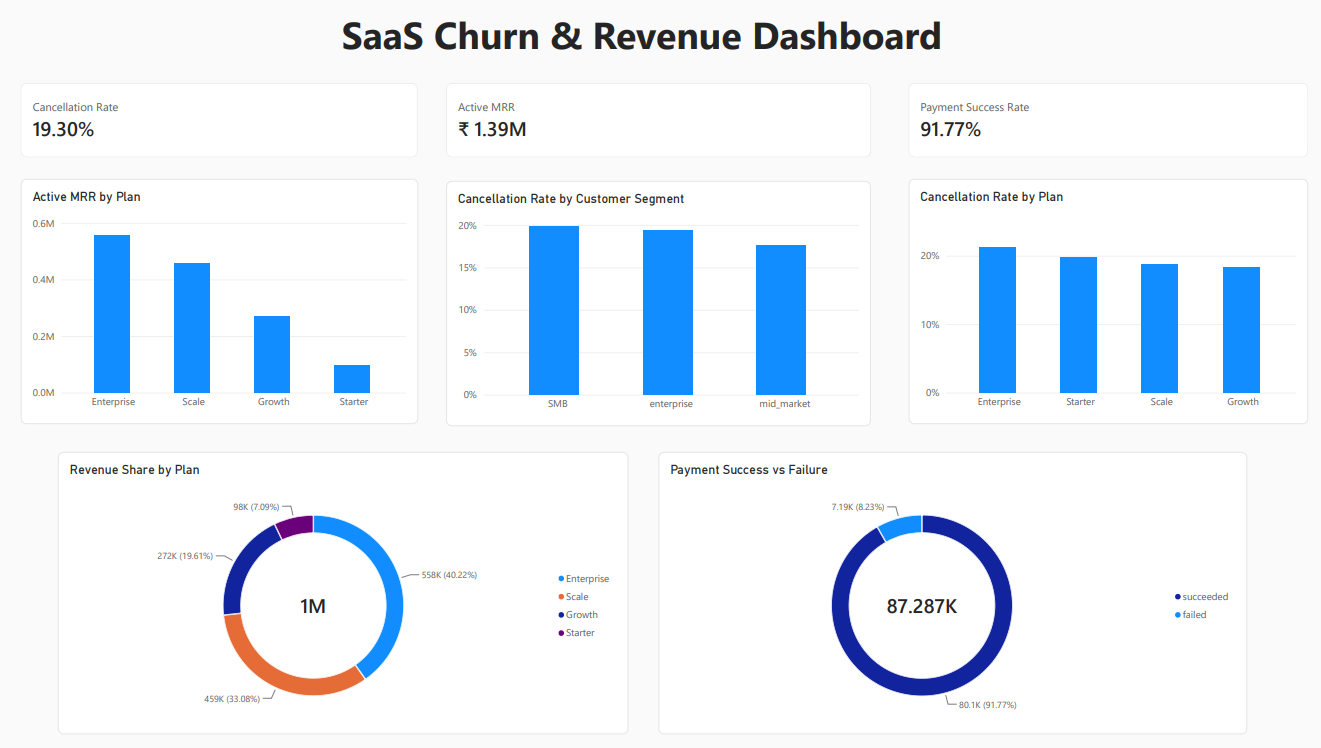

The page's visual inventory and layout, read from the dashboard file:
{"tool":"powerbi","page":{"name":"Page 1","canvas":[1920,1080],"ordinal":0},"visuals":[{"type":"cardVisual","fields":{"Data":["subscriptions.Cancellation Rate"]},"box":[50,123.3,566.7,106.7],"z":0},{"type":"cardVisual","fields":{"Data":["subscriptions.Active MRR"]},"box":[656.7,123.3,606.7,106.7],"z":1},{"type":"cardVisual","fields":{"Data":["payments.Payment Success Rate"]},"box":[1316.7,123.3,570,106.7],"z":2},{"type":"clusteredColumnChart","title":"Cancellation Rate by Plan","fields":{"Category":["plans.plan_name"],"Y":["subscriptions.Cancellation Rate"]},"box":[1316.7,260,570,350],"z":3},{"type":"clusteredColumnChart","title":"Cancellation Rate by Customer Segment","fields":{"Category":["accounts.segment"],"Y":["subscriptions.Cancellation Rate"]},"box":[656.7,263.3,606.7,350],"z":4},{"type":"clusteredColumnChart","title":"Active MRR by Plan","fields":{"Category":["plans.plan_name"],"Y":["Sum(subscriptions.mrr)"]},"box":[50,260,566.7,350],"z":5},{"type":"donutChart","title":"Revenue Share by Plan","fields":{"Category":["plans.plan_name"],"Y":["Sum(subscriptions.mrr)"]},"box":[103.3,650,813.3,403.3],"z":6},{"type":"donutChart","title":"Payment Success vs Failure","fields":{"Category":["payments.payment_status"],"Y":["CountNonNull(payments.payment_status)"]},"box":[960,650,840,403.3],"z":7},{"type":"textbox","box":[508.3,16.7,895,76.7],"z":8}]}

Visuals, with their boxes in screenshot pixels (x1, y1, x2, y2), scaled from the page's 1920x1080 canvas onto the 1321x748 screenshot:
cardVisual - subscriptions.Cancellation Rate: {"left": 34, "top": 85, "right": 424, "bottom": 159}
cardVisual - subscriptions.Active MRR: {"left": 452, "top": 85, "right": 869, "bottom": 159}
cardVisual - payments.Payment Success Rate: {"left": 906, "top": 85, "right": 1298, "bottom": 159}
"Cancellation Rate by Plan" clusteredColumnChart: {"left": 906, "top": 180, "right": 1298, "bottom": 422}
"Cancellation Rate by Customer Segment" clusteredColumnChart: {"left": 452, "top": 182, "right": 869, "bottom": 425}
"Active MRR by Plan" clusteredColumnChart: {"left": 34, "top": 180, "right": 424, "bottom": 422}
"Revenue Share by Plan" donutChart: {"left": 71, "top": 450, "right": 631, "bottom": 730}
"Payment Success vs Failure" donutChart: {"left": 660, "top": 450, "right": 1238, "bottom": 730}
textbox: {"left": 350, "top": 12, "right": 965, "bottom": 65}
